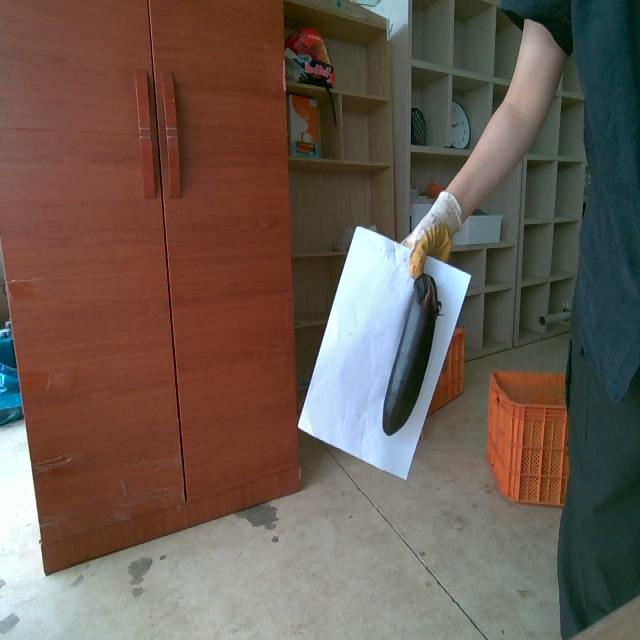Egg plant: (383, 275, 440, 433)
